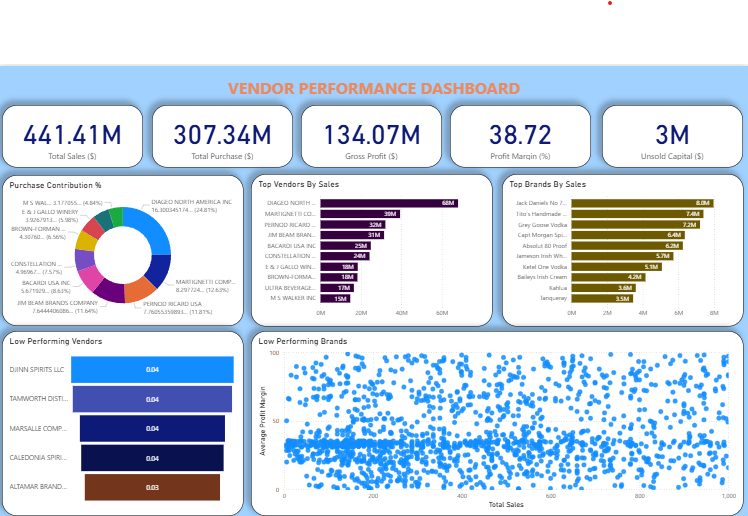

The dashboard page shown, as its layout file describes it:
{"tool":"powerbi","page":{"name":"Page 1","canvas":[1500,900],"ordinal":0},"visuals":[{"type":"textbox","box":[0,15,1500,63.3],"z":0},{"type":"card","fields":{"Values":["Sum(vendor_sales_summary.TotalSalesDollars)"]},"box":[6.7,78.3,281.7,125],"z":1000},{"type":"card","fields":{"Values":["Sum(vendor_sales_summary.TotalPurchaseDollars)"]},"box":[305,78.3,281.7,125],"z":2000},{"type":"card","fields":{"Values":["Sum(vendor_sales_summary.GrossProfit)"]},"box":[603.3,78.3,281.7,125],"z":3000},{"type":"card","fields":{"Values":["Avg(vendor_sales_summary.ProfitMargin)"]},"box":[901.7,78.3,281.7,125],"z":4000},{"type":"card","fields":{"Values":["Sum(vendor_sales_summary.UnsoldCapital)"]},"box":[1206.7,78.3,281.7,125],"z":5000},{"type":"donutChart","title":"Purchase Contribution %","fields":{"Category":["PurchaseContribution.VendorName"],"Y":["Sum(PurchaseContribution.PurchaseContribution%)"]},"box":[6.7,218.3,483.3,301.7],"z":6000},{"type":"barChart","title":"Top Vendors By Sales","fields":{"Category":["vendor_sales_summary.VendorName"],"Y":["Sum(vendor_sales_summary.TotalSalesDollars)"]},"box":[503.3,215,483.3,305],"z":7000},{"type":"barChart","title":"Top Brands By Sales","fields":{"Y":["Sum(vendor_sales_summary.TotalSalesDollars)"],"Category":["vendor_sales_summary.Description"]},"box":[1005,215,483.3,305],"z":8000},{"type":"funnel","title":"Low Performing Vendors","fields":{"Category":["LowTurnoverVendor.VendorName"],"Y":["Avg(LowTurnoverVendor.AverageStockTurnOver)"]},"box":[6.7,530,483.3,370],"z":9000},{"type":"scatterChart","title":"Low Performing Brands","fields":{"Category":["BrandPerformance.Description"],"X":["Sum(BrandPerformance.TotalSales)"],"Y":["Avg(BrandPerformance.AvgProfitMargin)"]},"box":[503.3,530,985,370],"z":10000}]}

Visuals, with their boxes on the page's 1500x900 design canvas (x1, y1, x2, y2). These are canvas units, not pixel positions in the 748x516 screenshot, which may show the page scaled, cropped or inside an application window:
textbox: <box>0,15,1500,78</box>
card - Sum(vendor_sales_summary.TotalSalesDollars): <box>7,78,288,203</box>
card - Sum(vendor_sales_summary.TotalPurchaseDollars): <box>305,78,587,203</box>
card - Sum(vendor_sales_summary.GrossProfit): <box>603,78,885,203</box>
card - Avg(vendor_sales_summary.ProfitMargin): <box>902,78,1183,203</box>
card - Sum(vendor_sales_summary.UnsoldCapital): <box>1207,78,1488,203</box>
"Purchase Contribution %" donutChart: <box>7,218,490,520</box>
"Top Vendors By Sales" barChart: <box>503,215,987,520</box>
"Top Brands By Sales" barChart: <box>1005,215,1488,520</box>
"Low Performing Vendors" funnel: <box>7,530,490,900</box>
"Low Performing Brands" scatterChart: <box>503,530,1488,900</box>
